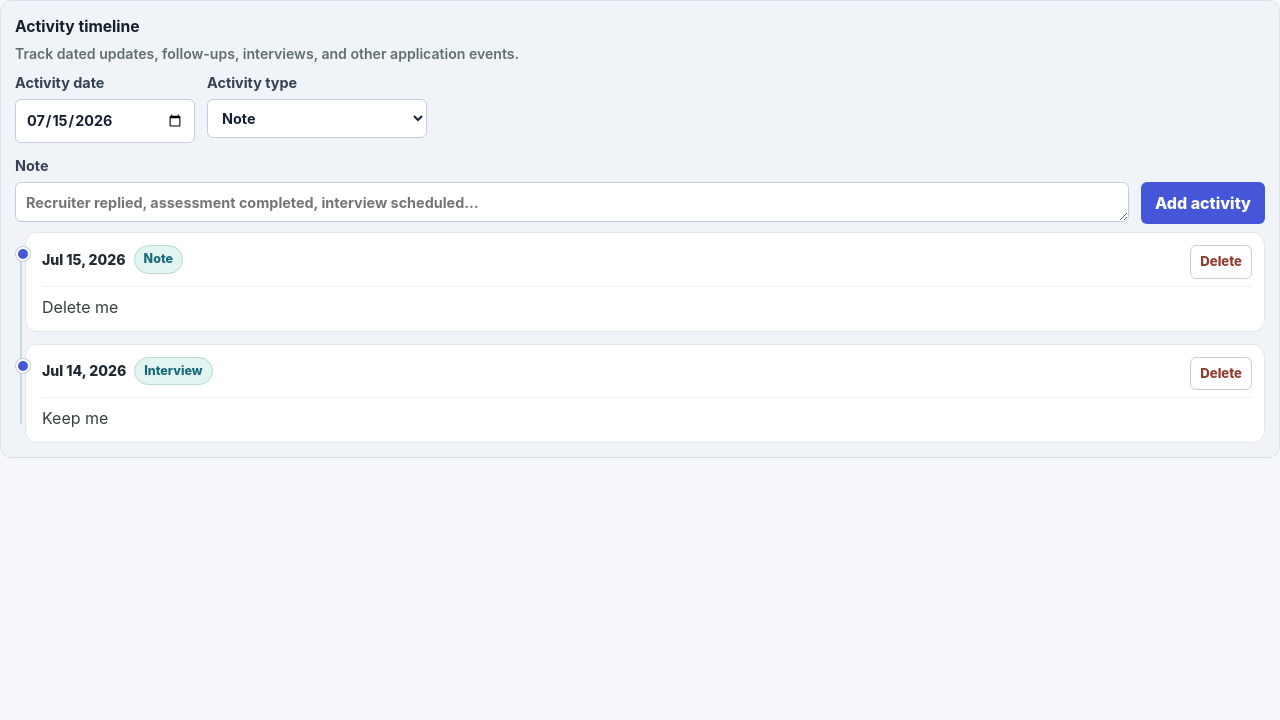
Test: ApplicationActivityTimeline › removes only the confirmed activity and retains the timeline
Click the button "Delete" in the row of "Jul 15, 2026" at (1221, 262), box [1190,245,1252,279]
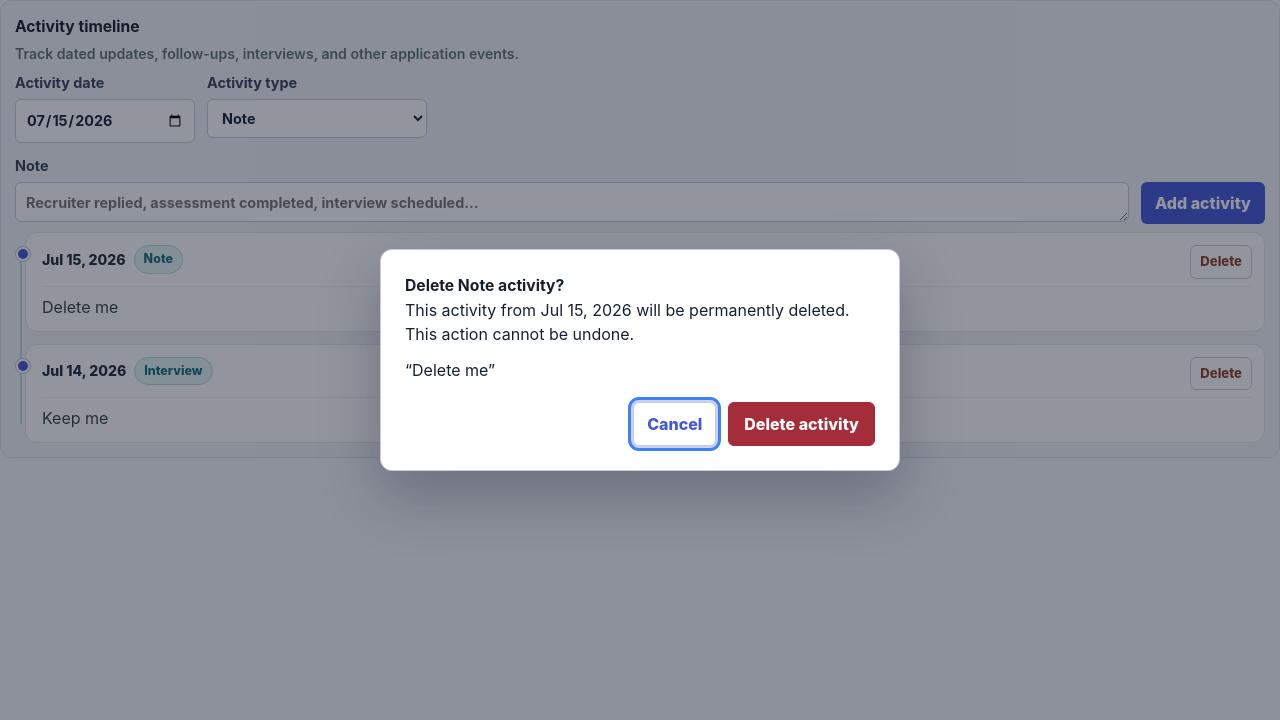
Click the button "Delete activity" at (802, 424), box [728,402,875,446]
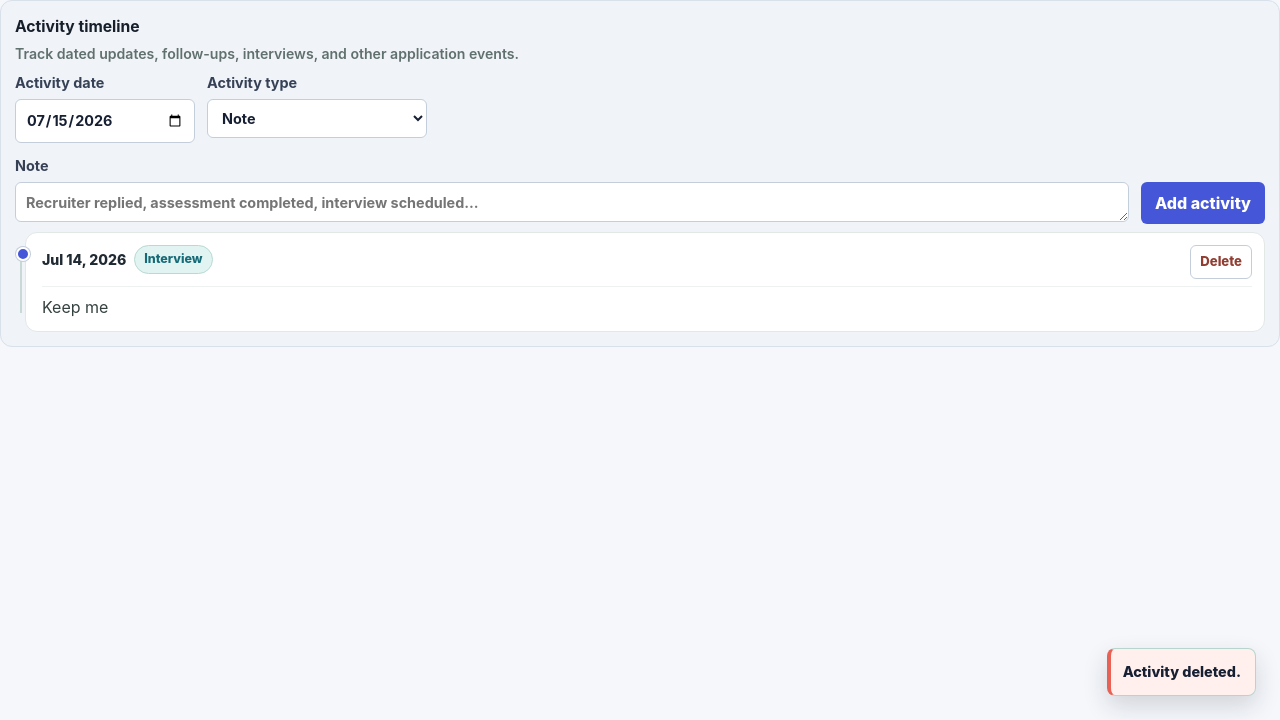
Check: the text "Keep me" is shown, box [42,296,108,316]
Check: the text "Delete me" is gone
Check: the text "Activity deleted." is shown, box [1107,648,1256,696]
